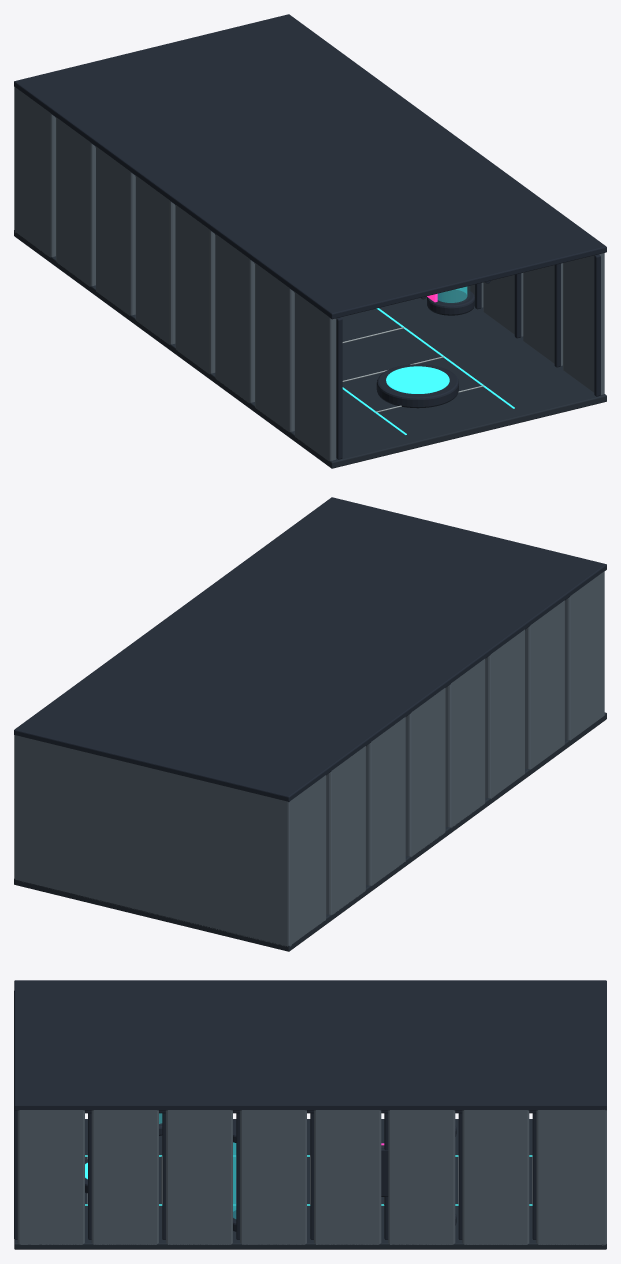
File: g0-sector11-corridor-r5.glb
3 renders of one model, top to bottom at view 1: azimuth 30°, elevation 25°; view 2: azimuth 150°, elevation 25°; view 3: azimuth 270°, elevation 25°, orthographic. The views are drawn at different scales.
Visible parts, largest first — view 1: G0_Ceiling, G0_Floor, G0_WallPanel_-1_0, G0_WallPanel_-1_3, G0_WallPanel_-1_4, G0_WallPanel_-1_2, G0_WallPanel_-1_5, G0_WallPanel_-1_6, G0_WallPanel_-1_1, G0_WallPanel_-1_7, G0_WallPanel_1_0, G0_WallPanel_1_1 (+7 smaller); view 2: G0_Ceiling, G0_EndWall, G0_WallPanel_-1_3, G0_WallPanel_-1_4, G0_WallPanel_-1_6, G0_WallPanel_-1_5, G0_WallPanel_-1_2, G0_WallPanel_-1_0, G0_WallPanel_-1_1, G0_WallPanel_-1_7, G0_Floor; view 3: G0_Ceiling, G0_WallPanel_1_0, G0_WallPanel_1_1, G0_WallPanel_1_4, G0_WallPanel_1_5, G0_WallPanel_1_6, G0_WallPanel_1_2, G0_WallPanel_1_3, G0_WallPanel_1_7, G0_Floor, G0_EndWall, G0_WallRib_1_6 (+8 smaller).
Boxes of the visible parts, x1,y1,x2,y2 form: G0_Ceiling: (14,14,606,319); G0_Floor: (14,230,606,468); G0_WallPanel_-1_0: (294,292,336,460); G0_WallPanel_-1_3: (175,205,215,374); G0_WallPanel_-1_4: (135,175,175,344); G0_WallPanel_-1_2: (215,234,254,403); G0_WallPanel_-1_5: (96,146,135,315); G0_WallPanel_-1_6: (56,117,95,286); G0_WallPanel_-1_1: (255,263,294,431); G0_WallPanel_-1_7: (16,88,55,257); G0_WallPanel_1_0: (563,253,604,394); G0_WallPanel_1_1: (523,263,562,365); G0_Ceiling: (14,497,606,801); G0_EndWall: (14,735,291,946); G0_WallPanel_-1_3: (445,658,485,827); G0_WallPanel_-1_4: (405,688,445,856); G0_WallPanel_-1_6: (326,746,365,914); G0_WallPanel_-1_5: (366,717,405,885); G0_WallPanel_-1_2: (485,629,524,798); G0_WallPanel_-1_0: (565,571,604,740); G0_WallPanel_-1_1: (525,600,564,769); G0_WallPanel_-1_7: (292,775,326,943); G0_Floor: (14,712,606,951); G0_Ceiling: (14,980,606,1110); G0_WallPanel_1_0: (17,1110,84,1244); G0_WallPanel_1_1: (91,1110,158,1244); G0_WallPanel_1_4: (314,1110,381,1244); G0_WallPanel_1_5: (388,1110,455,1244); G0_WallPanel_1_6: (462,1110,529,1244); G0_WallPanel_1_2: (166,1110,232,1244); G0_WallPanel_1_3: (240,1110,306,1244); G0_WallPanel_1_7: (536,1110,601,1244); G0_Floor: (14,1119,606,1249); G0_EndWall: (601,1109,606,1245); G0_WallRib_1_6: (458,1113,462,1239).
Size of the model in its own units: 12 by 6.46 by 24.01.
